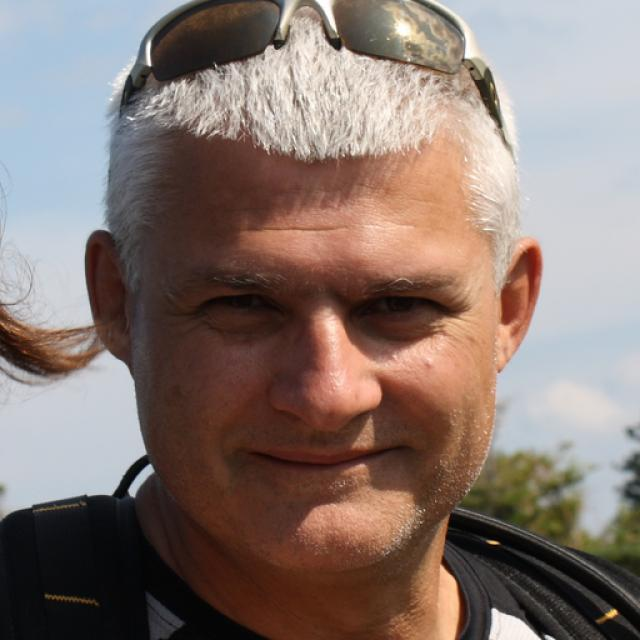content: (130, 138, 498, 582)
